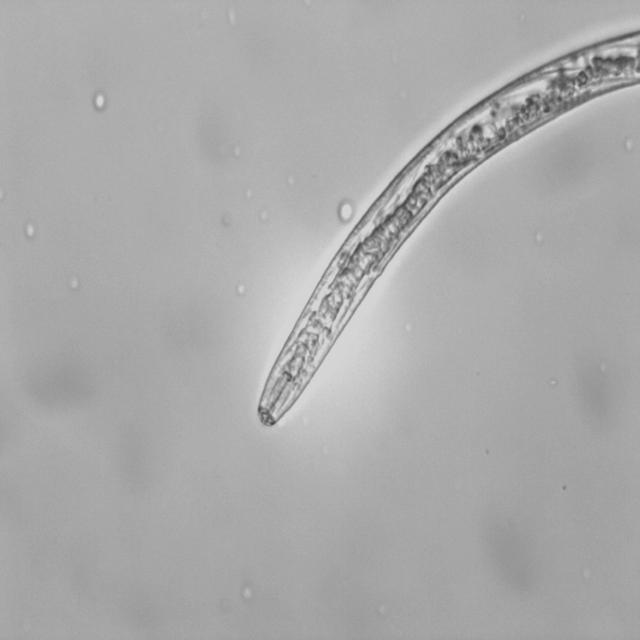Pratylenchus: (247, 0, 640, 429)
